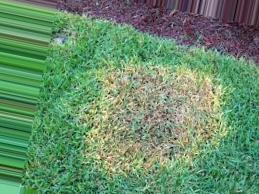patch: (109, 75, 189, 148), (188, 93, 214, 135), (116, 154, 162, 162), (92, 128, 105, 152)
